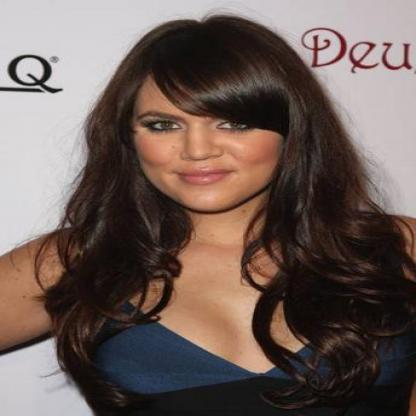long-hair: (39, 214, 411, 269)
